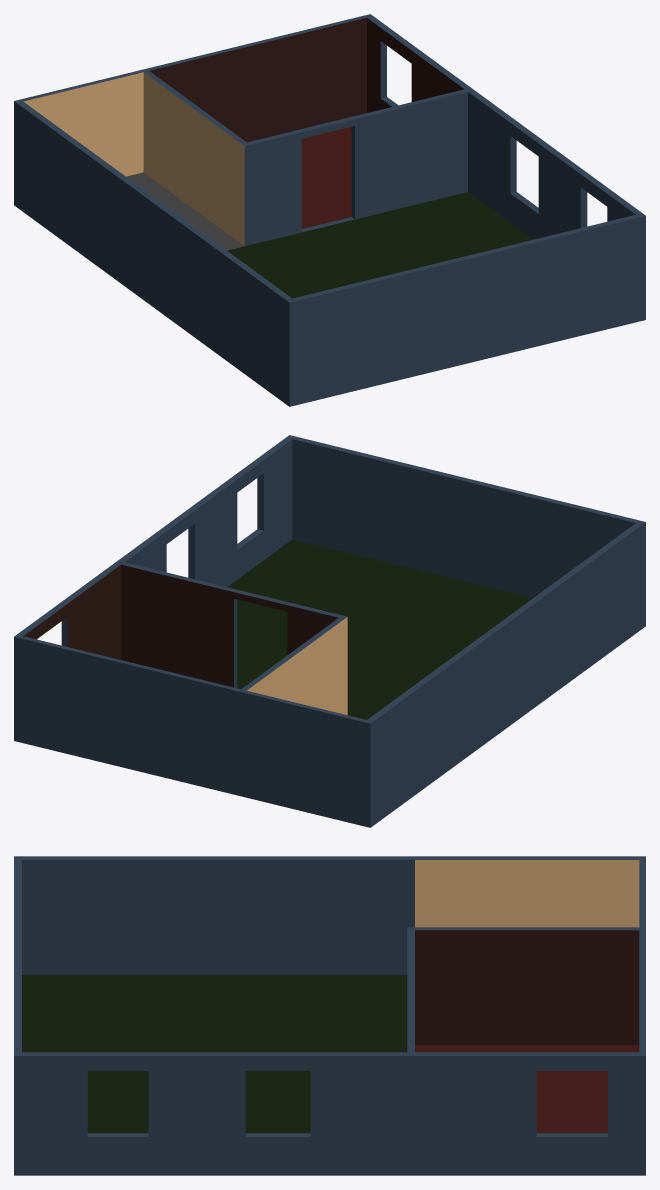
Rendered from Appartment_01 1.fbx.
3 renders of one model, top to bottom at view 1: azimuth 30°, elevation 25°; view 2: azimuth 150°, elevation 25°; view 3: azimuth 270°, elevation 25°, orthographic. The views are drawn at different scales.
Parts seen in each view (by area): view 1: LivingRoomWalls.001, LivingRoomWalls.002, LivingRoomWalls.005, LivingRoomWalls.004, LivingRoomWalls.003, LivingRoomWalls; view 2: LivingRoomWalls.001, LivingRoomWalls.004, LivingRoomWalls.002, LivingRoomWalls.005; view 3: LivingRoomWalls.001, LivingRoomWalls.004, LivingRoomWalls.002, LivingRoomWalls.005, LivingRoomWalls.003.
Part boxes in pixels (box(x1,y1,x2,y2)): LivingRoomWalls.001: box(14, 14, 645, 406); LivingRoomWalls.002: box(149, 17, 464, 142); LivingRoomWalls.005: box(23, 72, 244, 245); LivingRoomWalls.004: box(227, 192, 532, 298); LivingRoomWalls.003: box(301, 127, 351, 228); LivingRoomWalls: box(126, 172, 244, 250); LivingRoomWalls.001: box(14, 435, 645, 827); LivingRoomWalls.004: box(227, 539, 532, 719); LivingRoomWalls.002: box(23, 564, 338, 687); LivingRoomWalls.005: box(247, 617, 347, 715); LivingRoomWalls.001: box(14, 856, 645, 1175); LivingRoomWalls.004: box(22, 975, 407, 1133); LivingRoomWalls.002: box(415, 930, 639, 1045); LivingRoomWalls.005: box(415, 860, 639, 927); LivingRoomWalls.003: box(415, 1045, 639, 1133).
Bounding box in the file's own units: 600 × 168 × 803.
